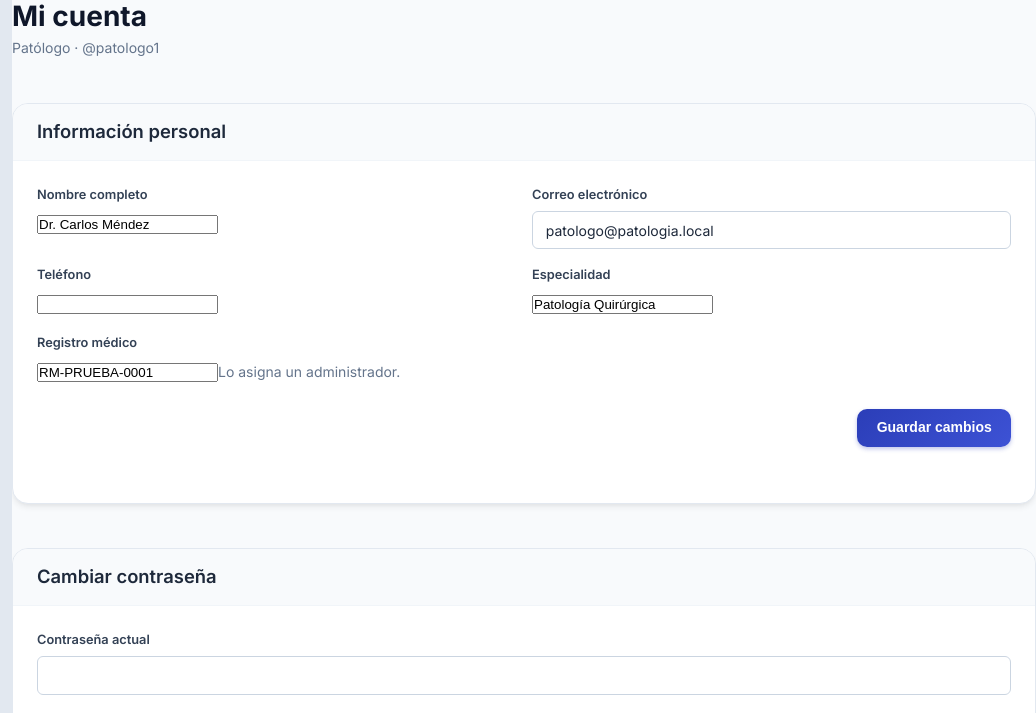
it: PerfilPage: cambiar contraseña › guarda los tokens nuevos que devuelve el backend
Expected: the field showing "Dr. Carlos Méndez" below "Nombre completo" is shown, [37, 215, 218, 234]
Type "ClaveVieja-2026" into the 1st password field at (524, 676), box [37, 656, 1011, 695]
(page scrolled)
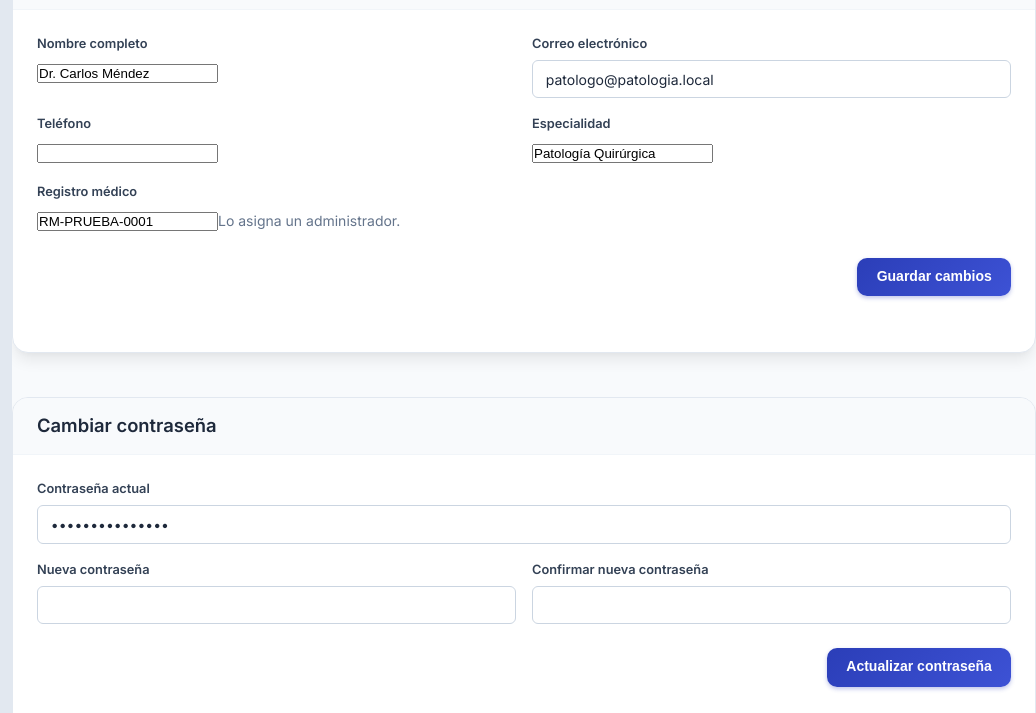
Type "Histologia-Segura-2026" into the 2nd password field at (276, 605), box [37, 586, 516, 624]
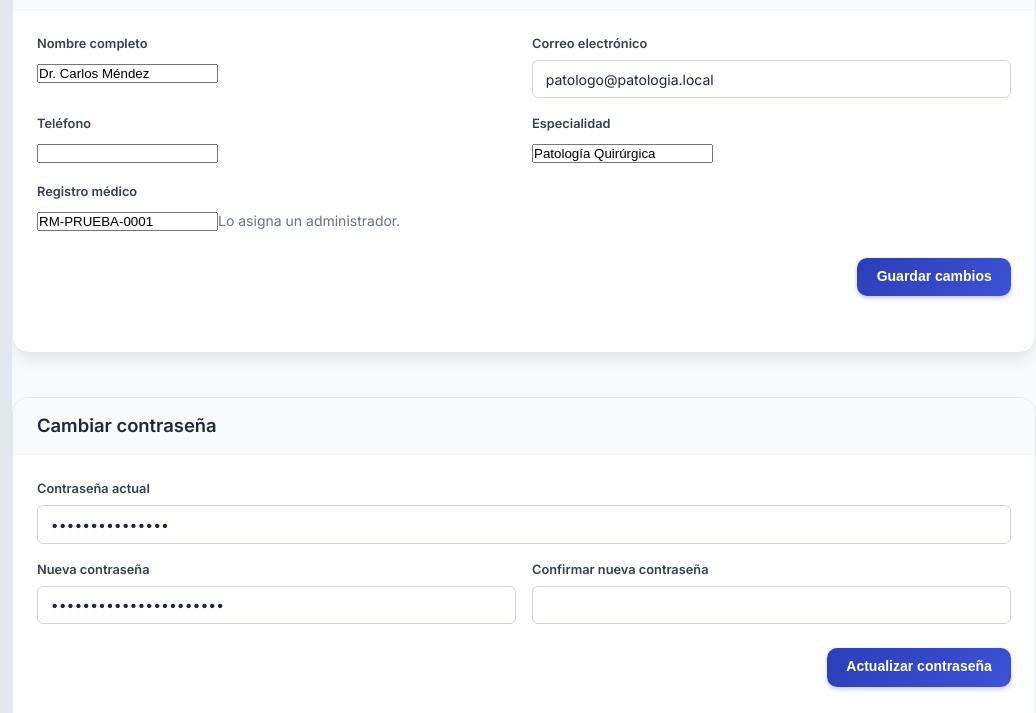
Type "Histologia-Segura-2026" into the password field below "Confirmar nueva contraseña" at (772, 605), box [532, 586, 1011, 624]
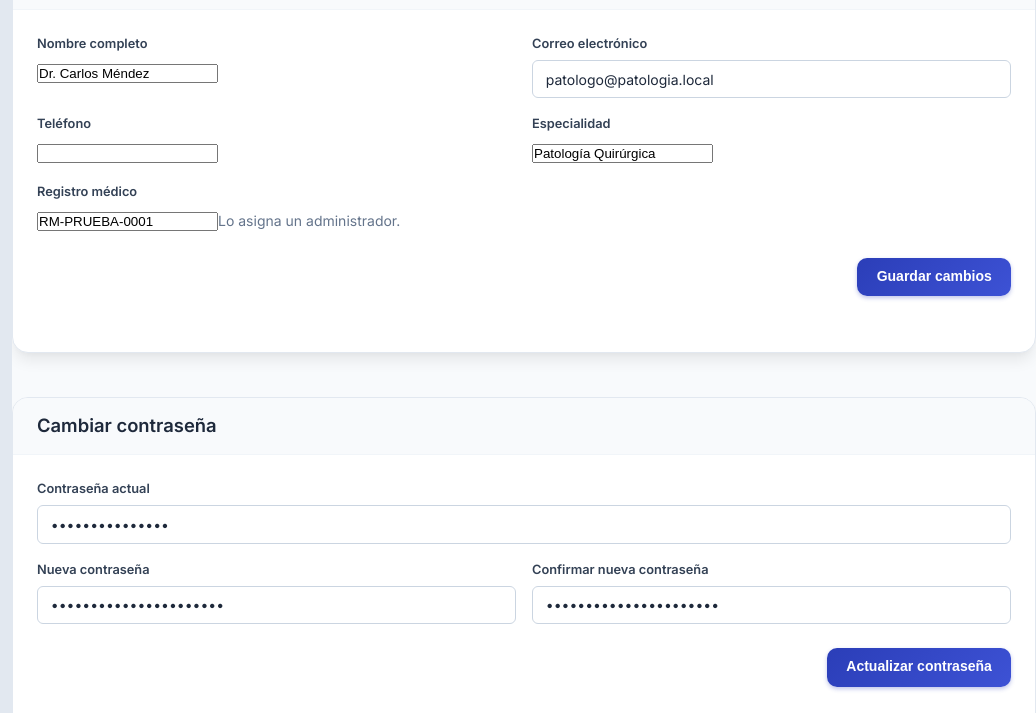
Submit the form that starts with "Contraseña actual", box [37, 479, 1011, 687]
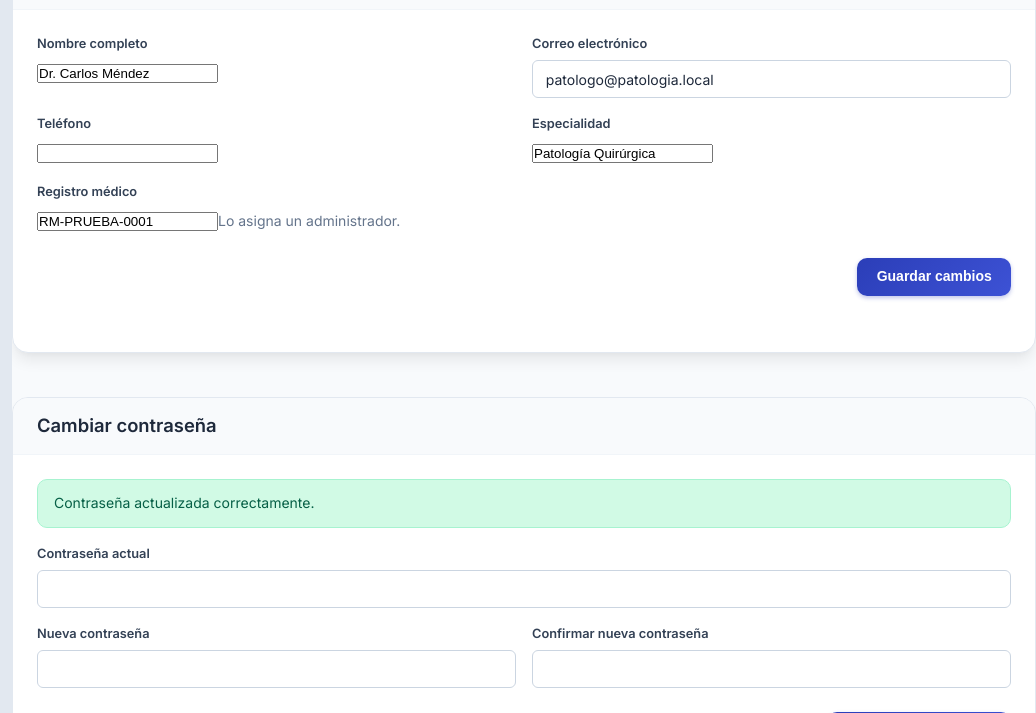
Expected: the text "Contraseña actualizada correctamente." is shown, [37, 479, 1011, 528]
